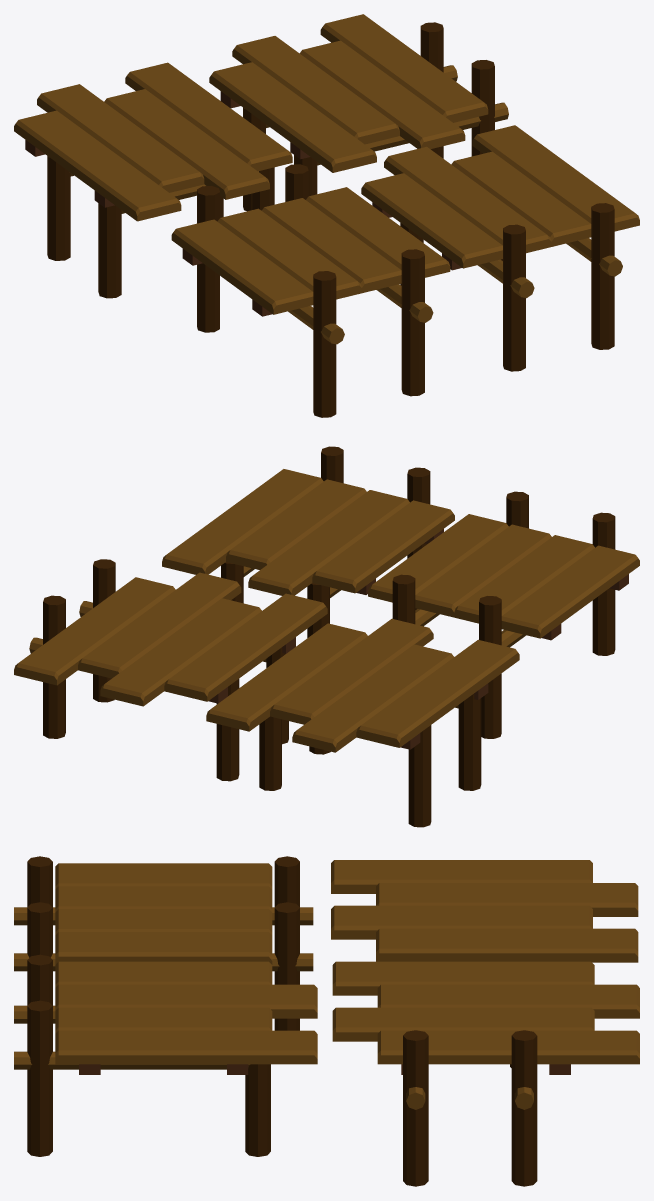
Rendered from 27.06_Bubuia_cais1.fbx.
3 views of the same model, one above another, from view 1: azimuth 30°, elevation 25°; view 2: azimuth 150°, elevation 25°; view 3: azimuth 270°, elevation 25° (orthographic). The views are drawn at different scales.
Visible parts, largest first — view 1: Cube.003, Cube, Cube.002, Cube.001; view 2: Cube.003, Cube.002, Cube, Cube.001; view 3: Cube.002, Cube.001, Cube, Cube.003.
Boxes of the visible parts, x1,y1,x2,y2 form: Cube.003: (14,62,292,298); Cube: (171,164,450,417); Cube.002: (209,14,508,211); Cube.001: (361,125,639,371); Cube.003: (206,618,519,827); Cube.002: (14,559,327,781); Cube: (368,491,639,738); Cube.001: (162,446,454,637); Cube.002: (332,961,639,1186); Cube.001: (14,954,317,1156); Cube: (14,856,313,1030); Cube.003: (331,860,638,1067).
Bounding box in the file's own units: 18.57 × 5.98 × 23.27.
